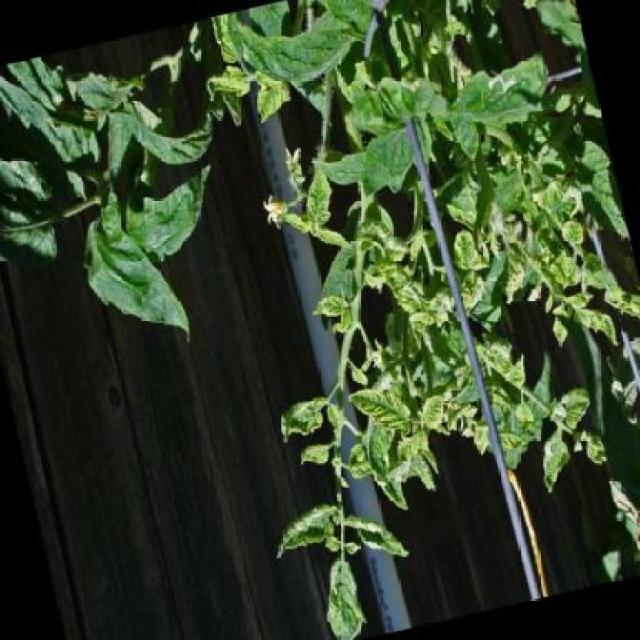Healthy Leaf: (435, 44, 570, 158), (343, 110, 442, 204), (371, 249, 447, 351), (257, 489, 351, 566), (261, 382, 341, 450), (348, 372, 422, 443), (286, 161, 349, 241), (568, 292, 623, 365), (530, 427, 578, 498), (527, 173, 584, 229), (301, 287, 356, 338), (408, 383, 457, 440), (386, 423, 436, 474), (446, 220, 489, 278), (553, 380, 598, 431), (541, 248, 585, 297), (291, 436, 337, 476), (552, 211, 588, 249)
